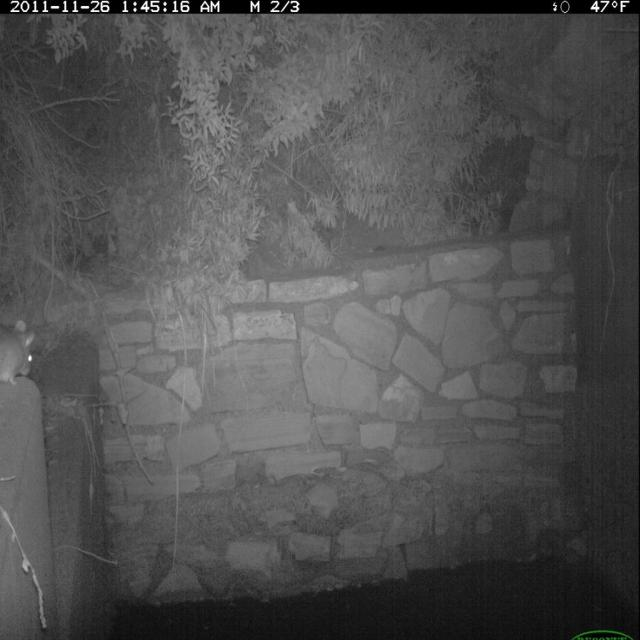rodent: (1, 313, 41, 403)
